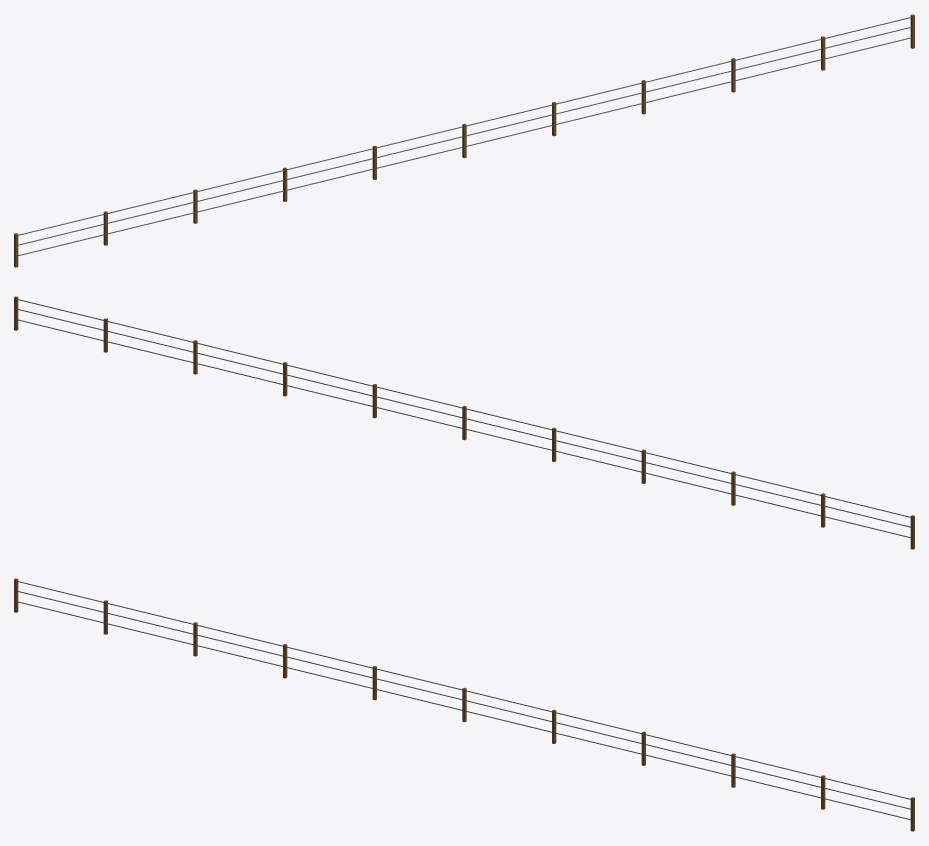
Rendered from Fence.obj.
3 views of the same model, one above another, from view 1: azimuth 30°, elevation 25°; view 2: azimuth 150°, elevation 25°; view 3: azimuth 330°, elevation 25° (orthographic).
Visible parts, largest first — view 1: Fence; view 2: Fence; view 3: Fence.
Boxes of the visible parts, <box> form: Fence: <box>14,14,914,267</box>; Fence: <box>14,296,914,549</box>; Fence: <box>14,578,914,831</box>.
Size of the model in its own units: 40.12 by 1.4 by 0.12.
Materials: 1 (1 with a texture image).
